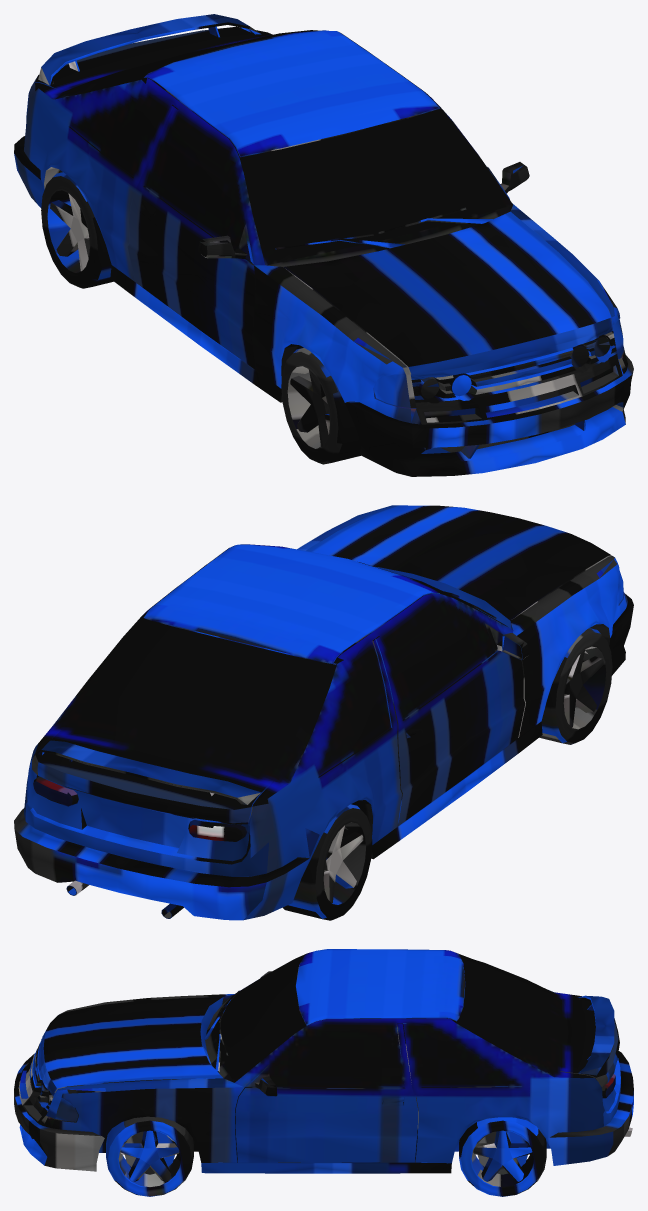
Rendered from coupe.glb.
3 renders of one model, top to bottom at view 1: azimuth 30°, elevation 25°; view 2: azimuth 150°, elevation 25°; view 3: azimuth 270°, elevation 25°, orthographic. The views are drawn at different scales.
Parts seen in each view (by area): view 1: lod0; view 2: lod0; view 3: lod0.
Boxes of the visible parts, bbox=[...] form: lod0: bbox=[14, 14, 633, 476]; lod0: bbox=[14, 505, 633, 920]; lod0: bbox=[14, 949, 633, 1196].
Size of what is drawn, in the model's own units: 2 by 1.36 by 4.5.
Materials: 1 (1 with a texture image).
